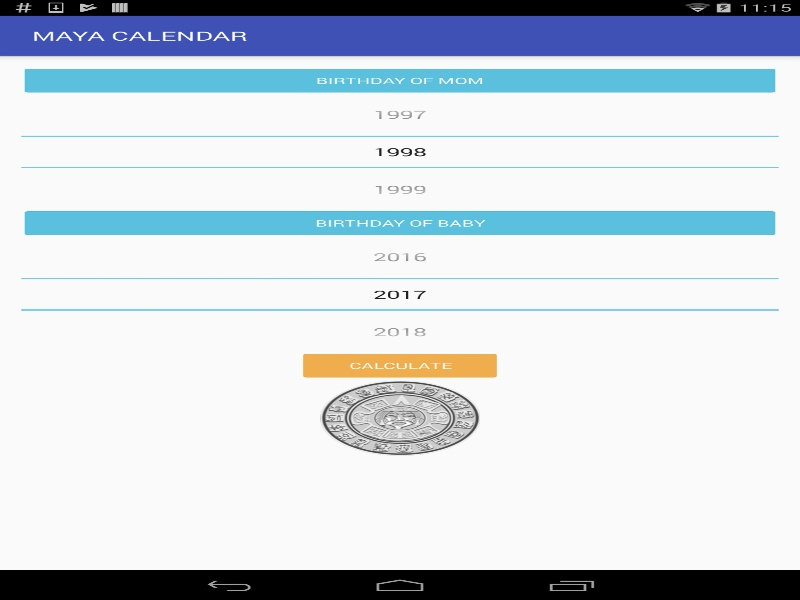Button: (21, 166, 778, 208), (21, 95, 778, 136), (21, 238, 778, 279), (21, 309, 778, 350), (21, 65, 778, 95), (21, 208, 778, 238), (300, 350, 500, 380)
Input: (21, 136, 778, 166), (21, 279, 778, 309)
